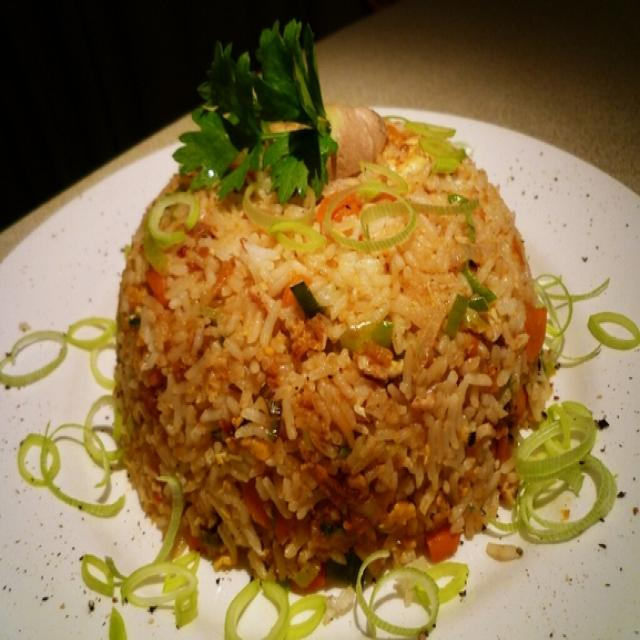米饭主食: (58, 50, 606, 584)
